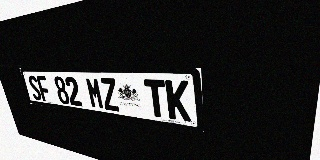2: (64, 77, 82, 106)
8: (53, 76, 70, 105)
F: (36, 76, 52, 102)
K: (165, 80, 191, 122)
M: (85, 77, 105, 110)
S: (27, 75, 43, 101)
T: (143, 79, 168, 118)
Z: (99, 78, 120, 112)
